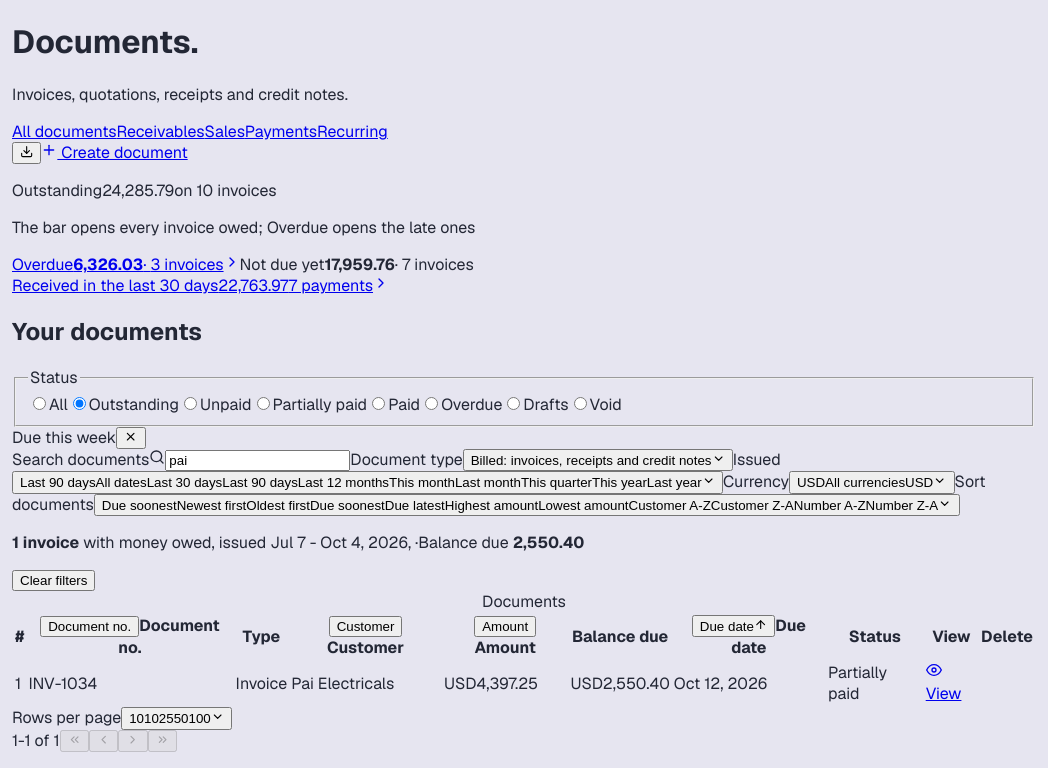
Test: summarizes the filtered list
Expected: the table is shown, [12,591,1036,707]
Expected: the element that starts with "1 invoice" reads "1 invoice with money owed, issued Jul 7 - Oct 4, 2026, ·Balance due 2,550.40", [12,532,584,553]
Click the button "Clear filters" at (54, 580), box [12,570,95,591]
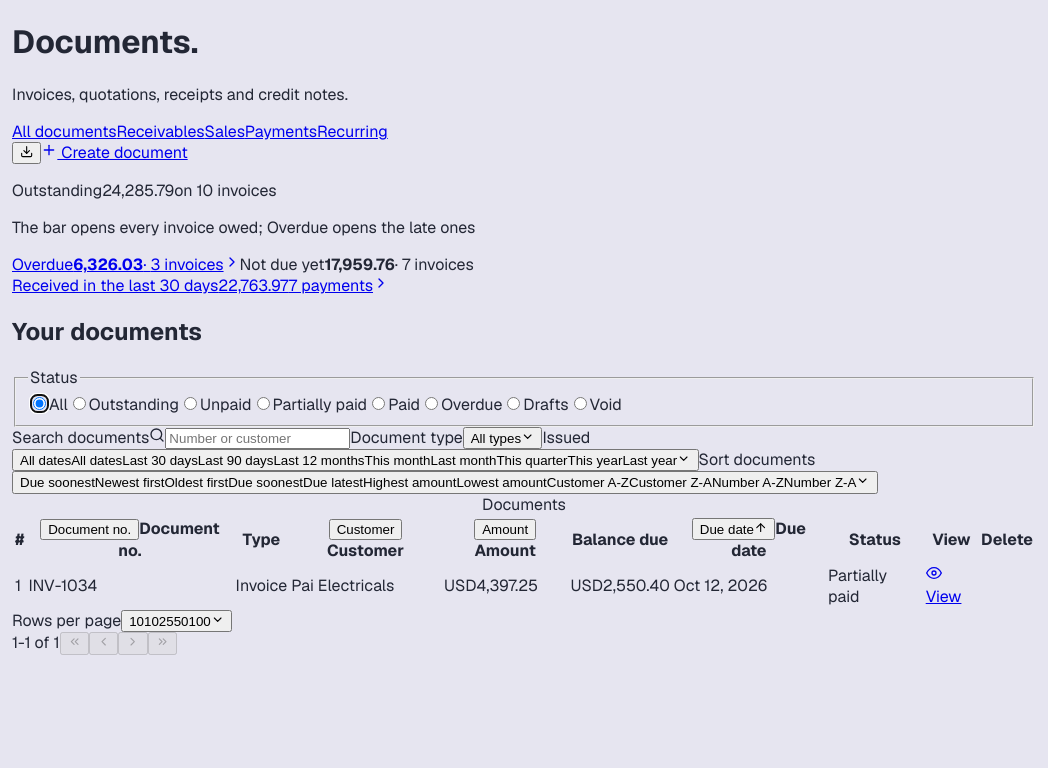
Result: the text "Clear filters" is gone
